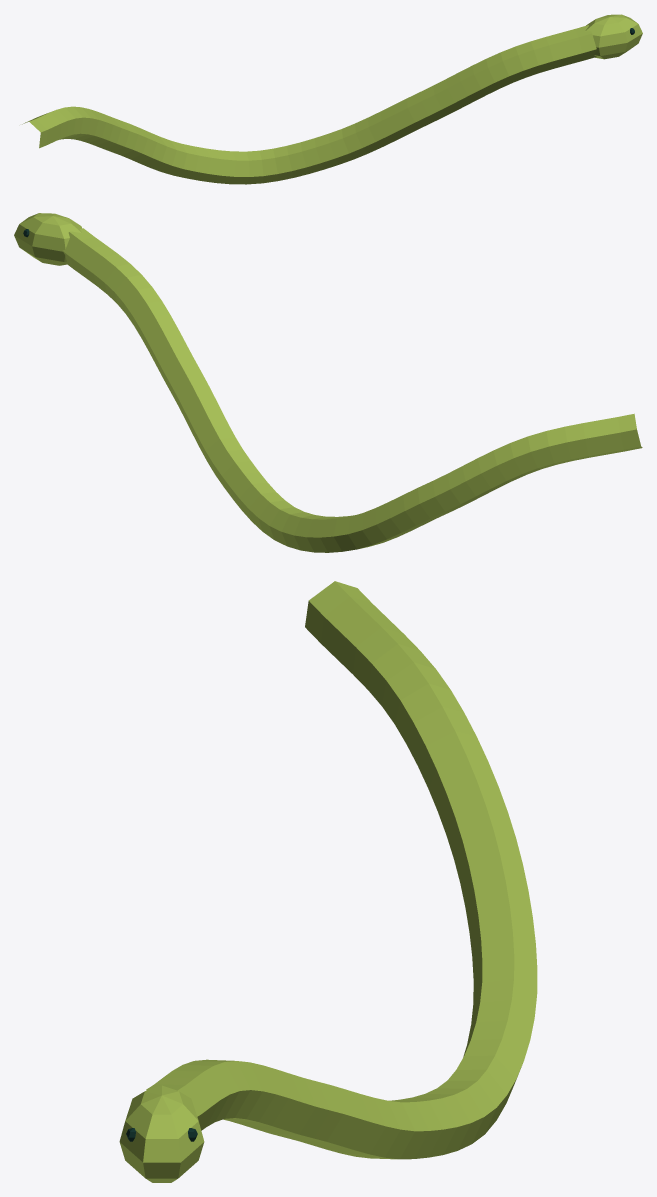
File: swamp_eel.glb
3 views of the same model, one above another, from view 1: azimuth 30°, elevation 25°; view 2: azimuth 150°, elevation 25°; view 3: azimuth 270°, elevation 25° (orthographic). The views are drawn at different scales.
Parts seen in each view (by area): view 1: n1, n3; view 2: n1, n3; view 3: n1, n3.
Part boxes in pixels (<box>): n1: <box>22,25,596,184</box>; n3: <box>585,14,642,59</box>; n1: <box>62,228,642,552</box>; n3: <box>14,213,82,265</box>; n1: <box>146,581,537,1159</box>; n3: <box>119,1085,204,1182</box>.
Bounding box in the file's own units: 12.11 × 3.07 × 3.8.
